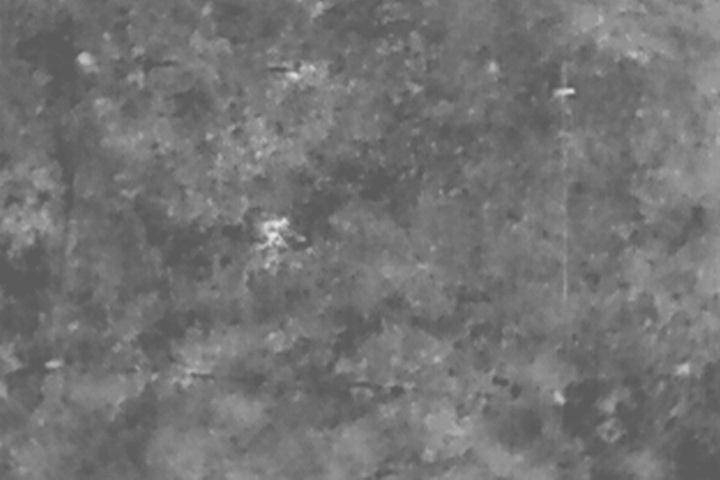landmine: (261, 214, 291, 246)
